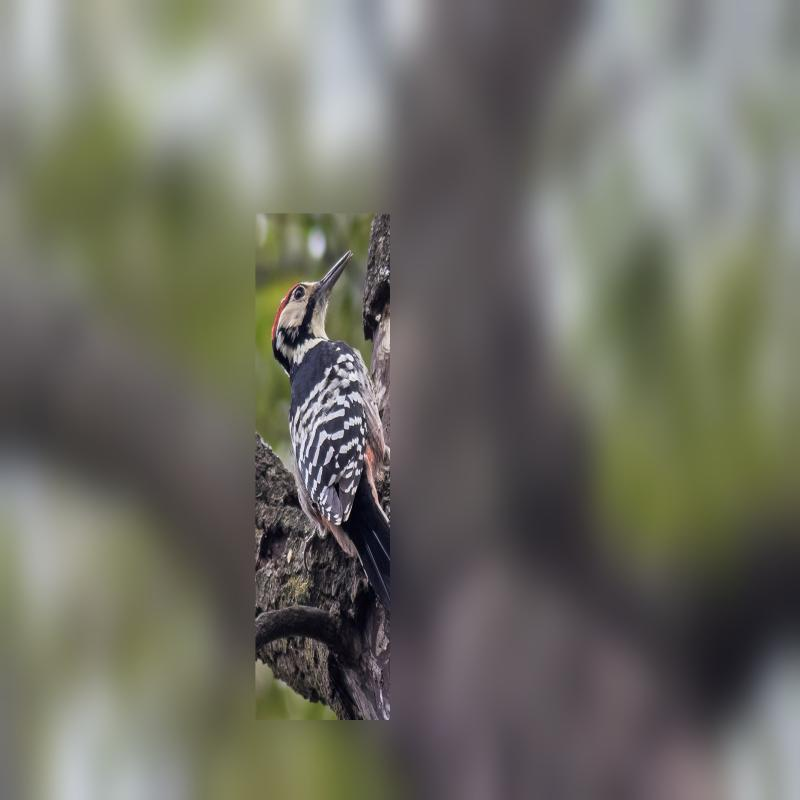white-backed woodpecker: (262, 235, 388, 615)
